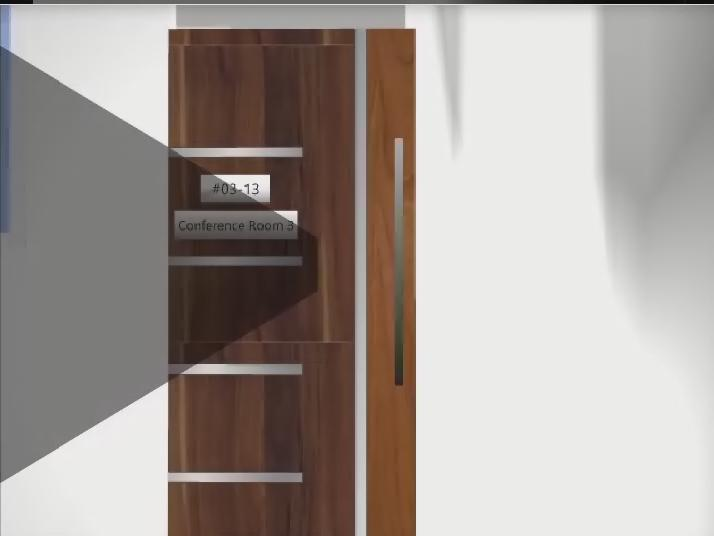door: (169, 30, 416, 536)
